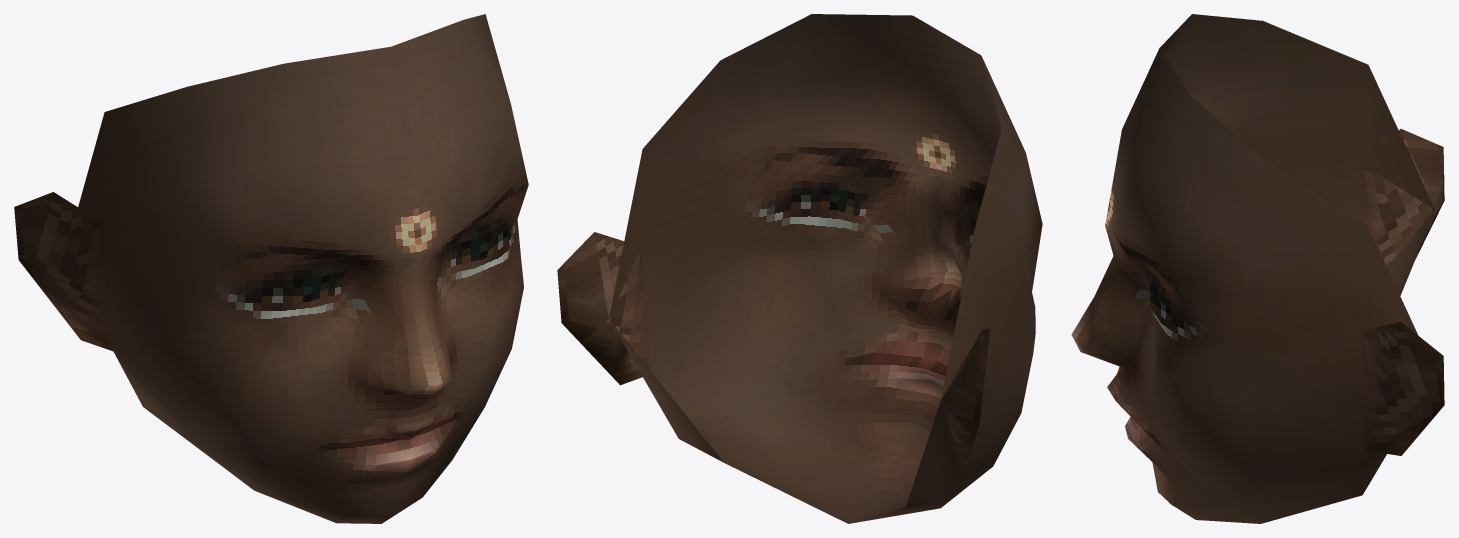
3 views of the same model, side by side, from view 1: azimuth 30°, elevation 25°; view 2: azimuth 150°, elevation 25°; view 3: azimuth 270°, elevation 25° (orthographic). The views are drawn at different scales.
Visible parts, largest first — view 1: editpl_f-0000-1848, editpl_f-0000-1847; view 2: editpl_f-0000-1848, editpl_f-0000-1847; view 3: editpl_f-0000-1848, editpl_f-0000-1847.
Part boxes in pixels (bbox=[...]): editpl_f-0000-1848: bbox=[14, 14, 528, 462]; editpl_f-0000-1847: bbox=[103, 224, 484, 523]; editpl_f-0000-1848: bbox=[557, 14, 1042, 468]; editpl_f-0000-1847: bbox=[609, 247, 1033, 523]; editpl_f-0000-1848: bbox=[1071, 14, 1444, 480]; editpl_f-0000-1847: bbox=[1072, 164, 1434, 523].
Size of the model in its own units: 19.4 by 20.15 by 14.65.
